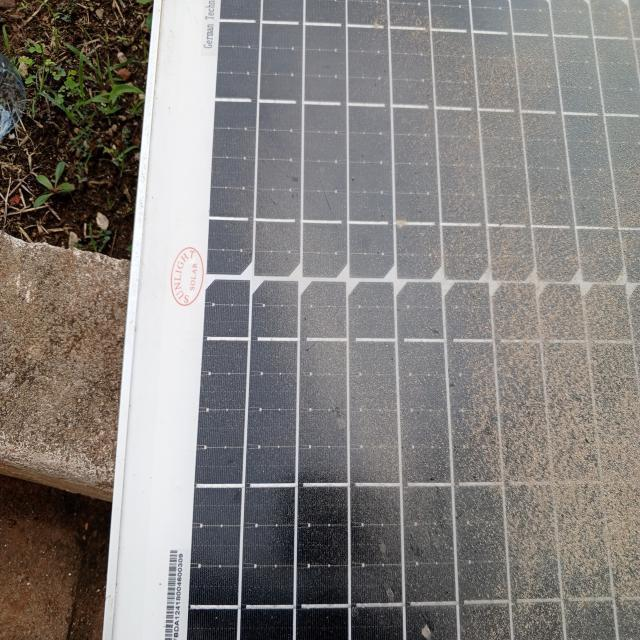Surface Contaminant: (214, 0, 639, 639)
